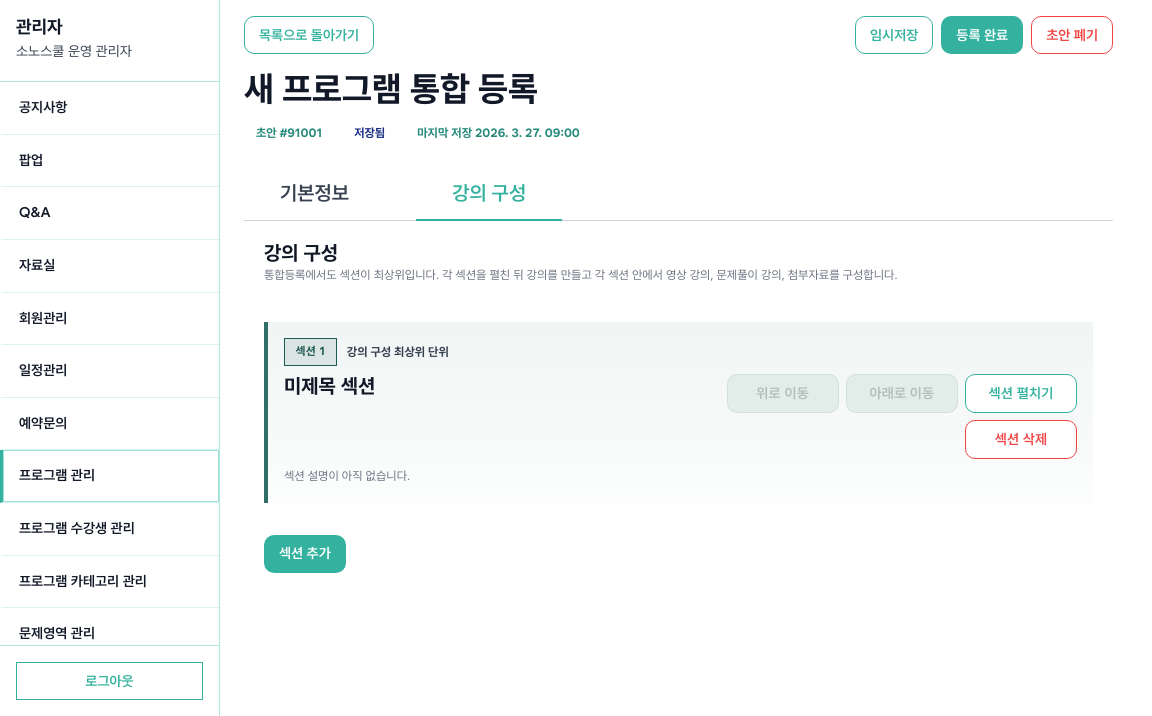
Scenario: AdminConsolePage › keeps lecture type fixed and shows video duration as readonly in the create curriculum workspace
Expected: the heading "새 프로그램 통합 등록" is shown, [244, 68, 538, 109]
Click the button "섹션 펼치기": click(1021, 393) [965, 374, 1077, 413]
(page scrolled)
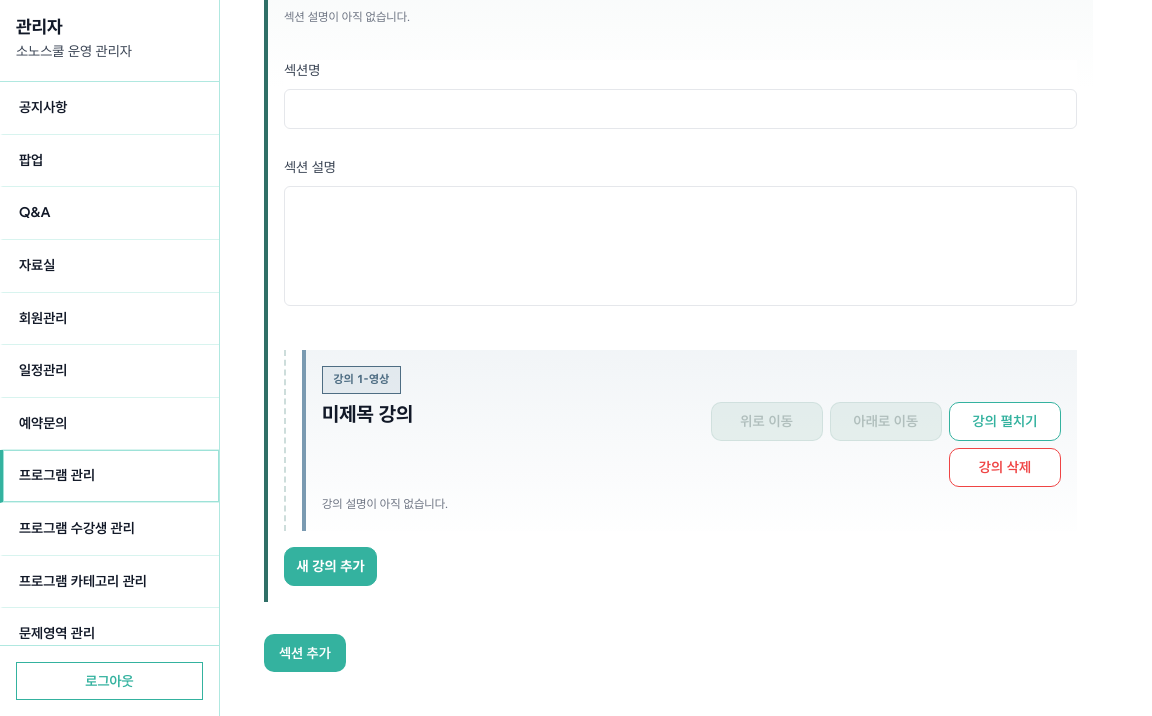
Click the button "강의 펼치기": click(1005, 421) [949, 402, 1061, 441]
(page scrolled)
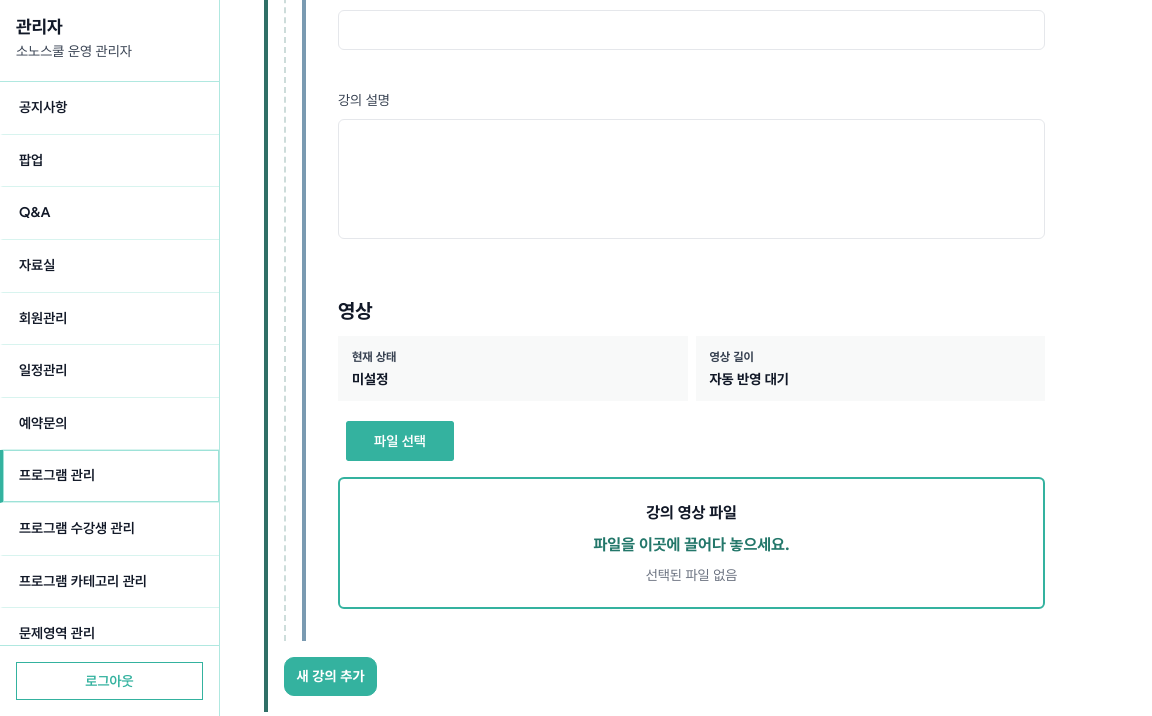
Result: the text "영상 길이" is shown at [710, 350, 754, 364]
